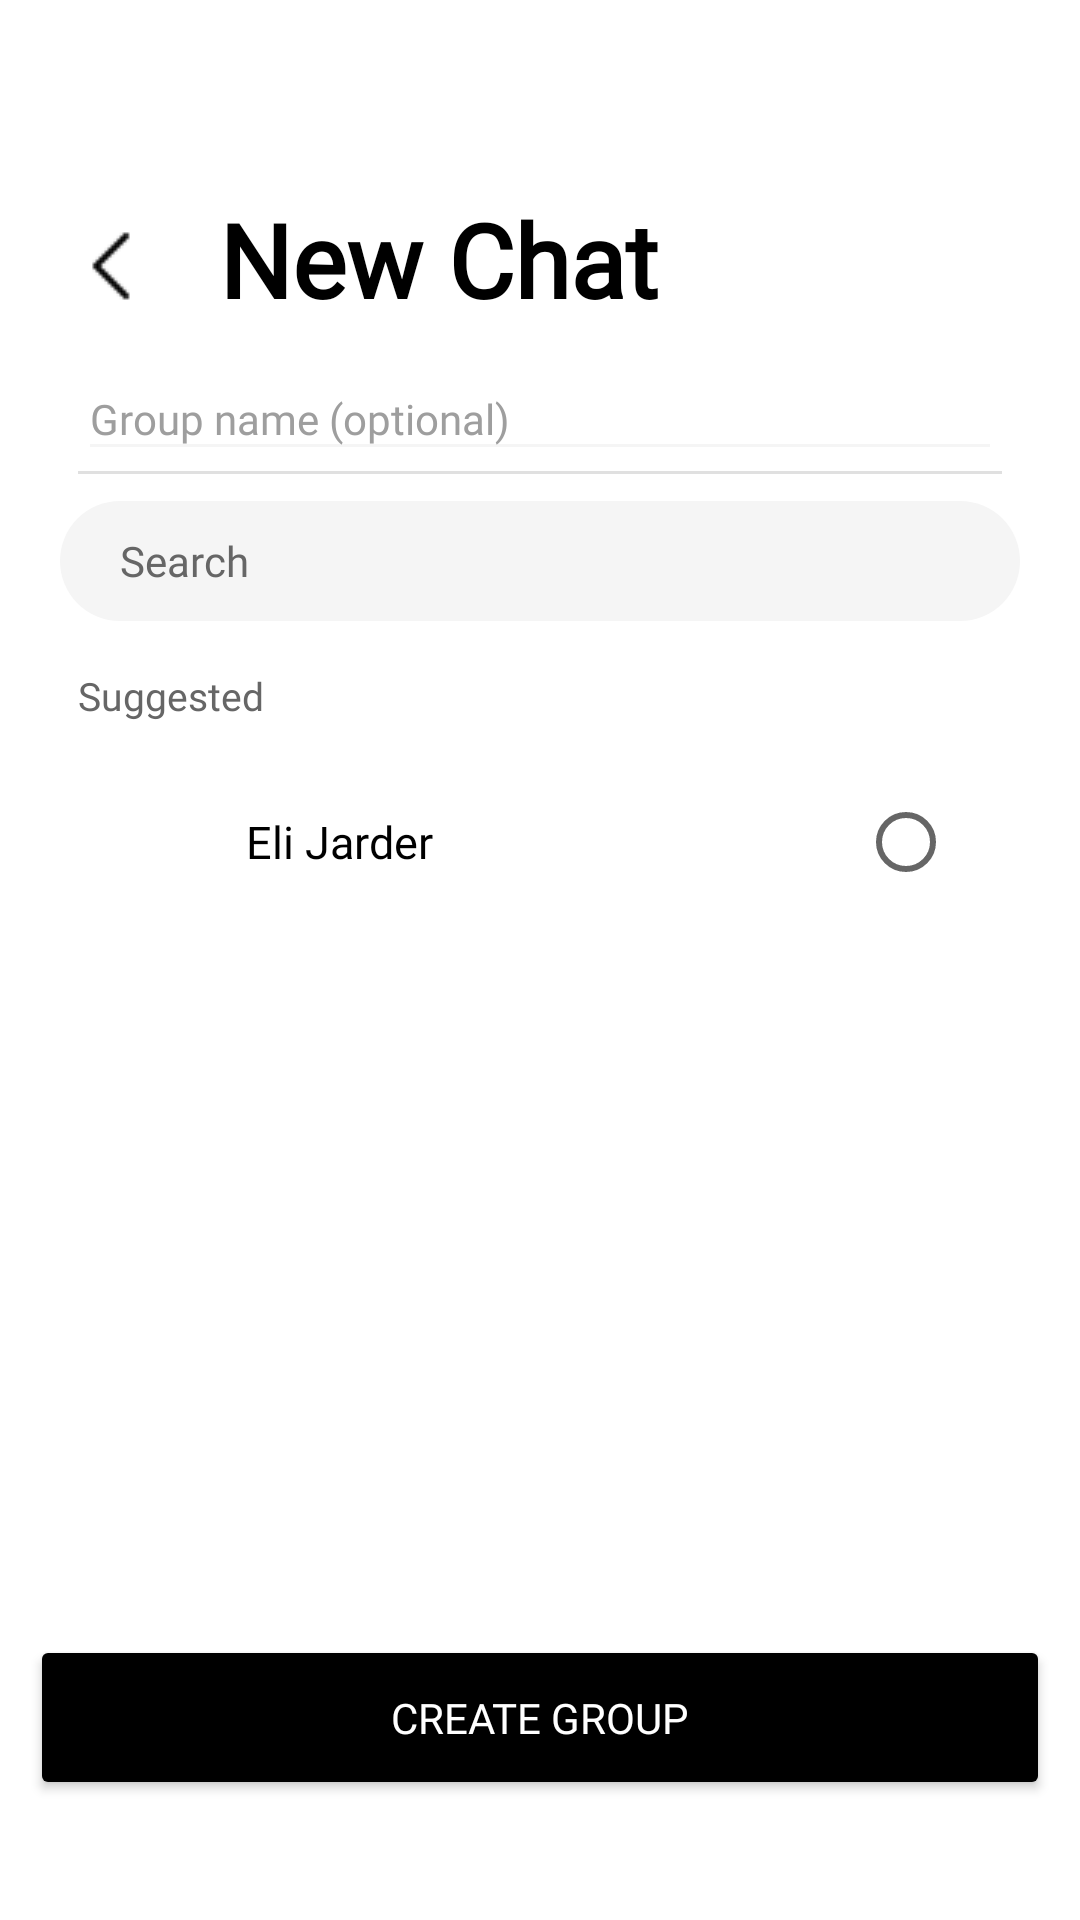

Screen size 1080px x 1920px. Icon name, then its box in pixels as (x1, y1, x2, y2):
back: (92, 232, 130, 300)
